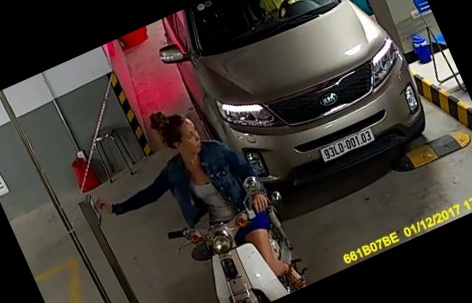plate: (314, 126, 381, 162)
